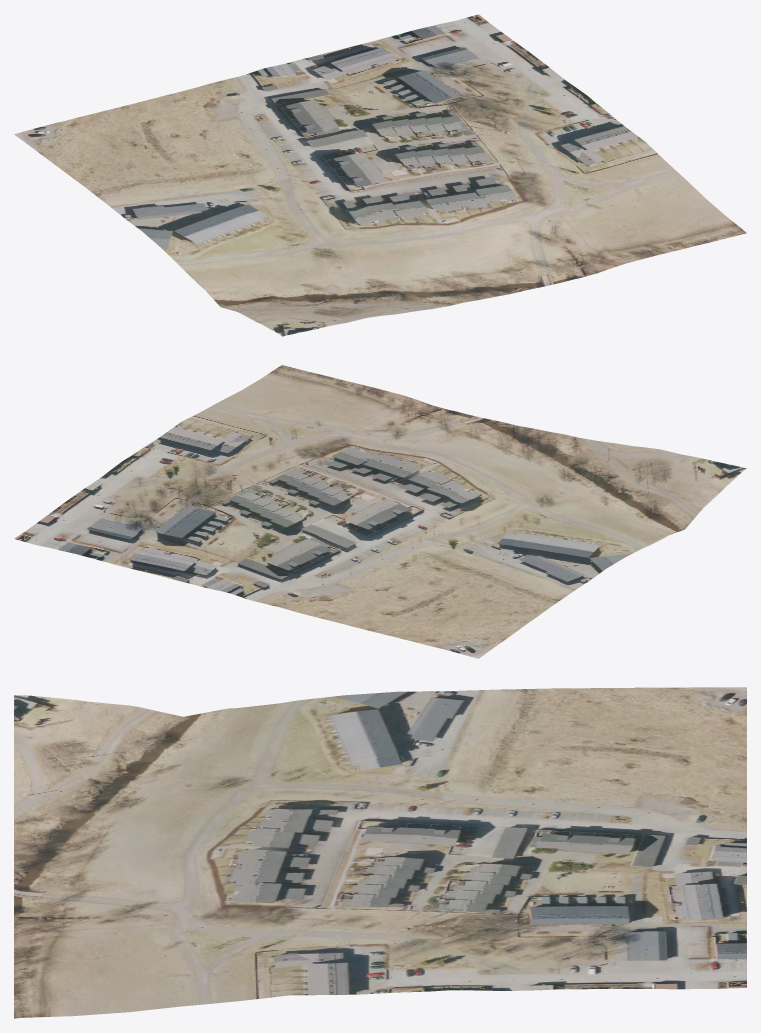
Rendered from CM_Terrain_24490868_6818360.fbx.
3 views of the same model, one above another, from view 1: azimuth 30°, elevation 25°; view 2: azimuth 150°, elevation 25°; view 3: azimuth 270°, elevation 25° (orthographic). The views are drawn at different scales.
Parts seen in each view (by area): view 1: CM_Terrain_24490868_6818360_LOD0; view 2: CM_Terrain_24490868_6818360_LOD0; view 3: CM_Terrain_24490868_6818360_LOD0.
Boxes of the visible parts, <box> form: CM_Terrain_24490868_6818360_LOD0: <box>14,14,746,336</box>; CM_Terrain_24490868_6818360_LOD0: <box>14,365,746,658</box>; CM_Terrain_24490868_6818360_LOD0: <box>14,687,746,1018</box>.
Size of what is drawn, in the model's own units: 205 by 12.05 by 205.
